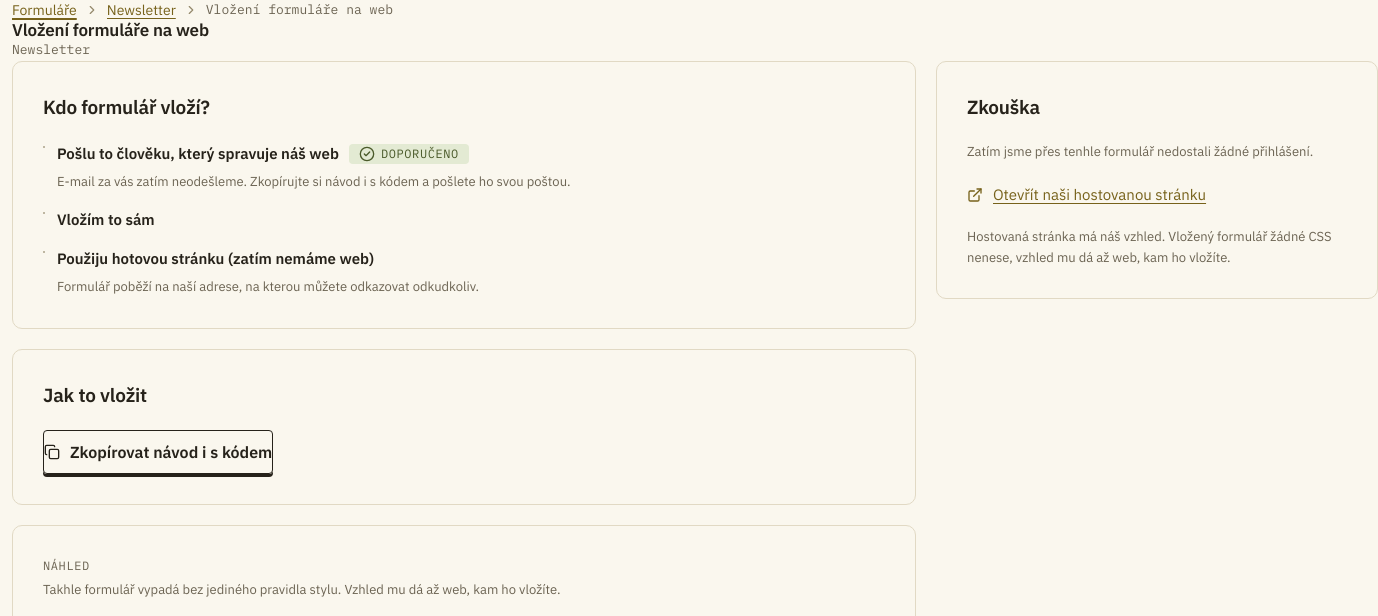
EmbedPanel › vypíše úchyty, stavy i ukázkové CSS ke zkopírování
Click the 2nd radio button named "Vložím to sám". click: [44, 213]
box: [43, 212, 45, 214]
(page scrolled)
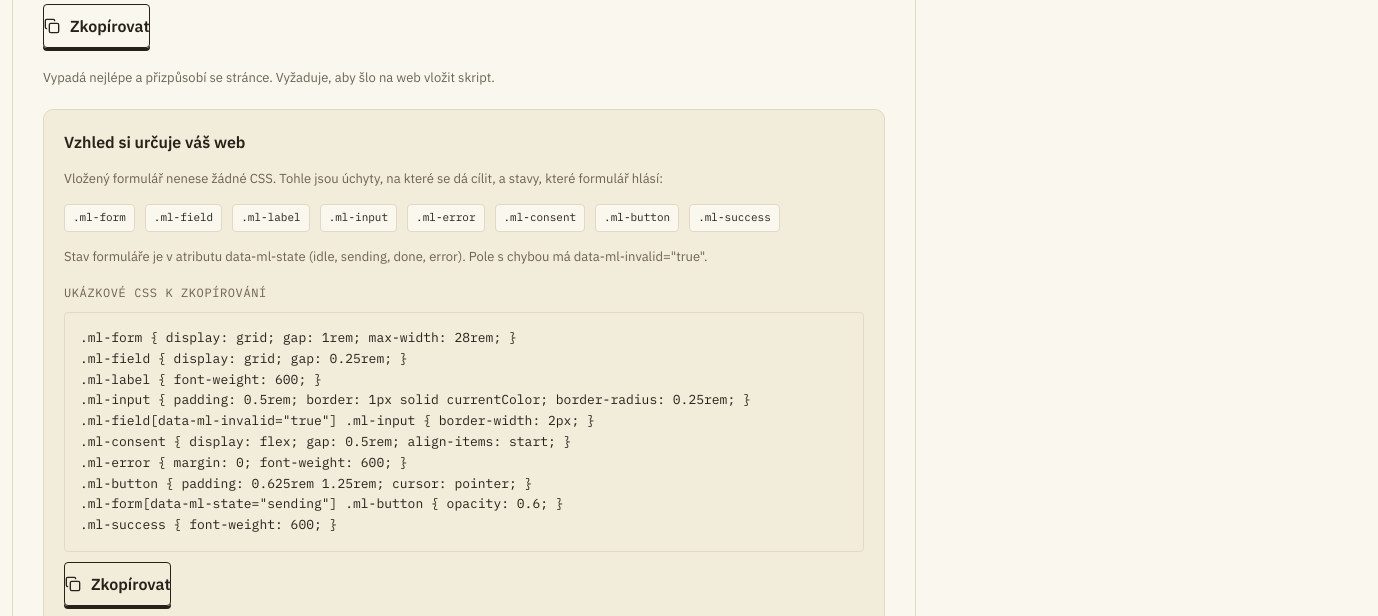
Result: the element with test id "embed-styling" shows ".ml-form" at [80, 329, 751, 533]
Result: the element with test id "embed-styling" shows ".ml-field" at [80, 329, 751, 533]
Result: the element with test id "embed-styling" shows ".ml-input" at [80, 329, 751, 533]
